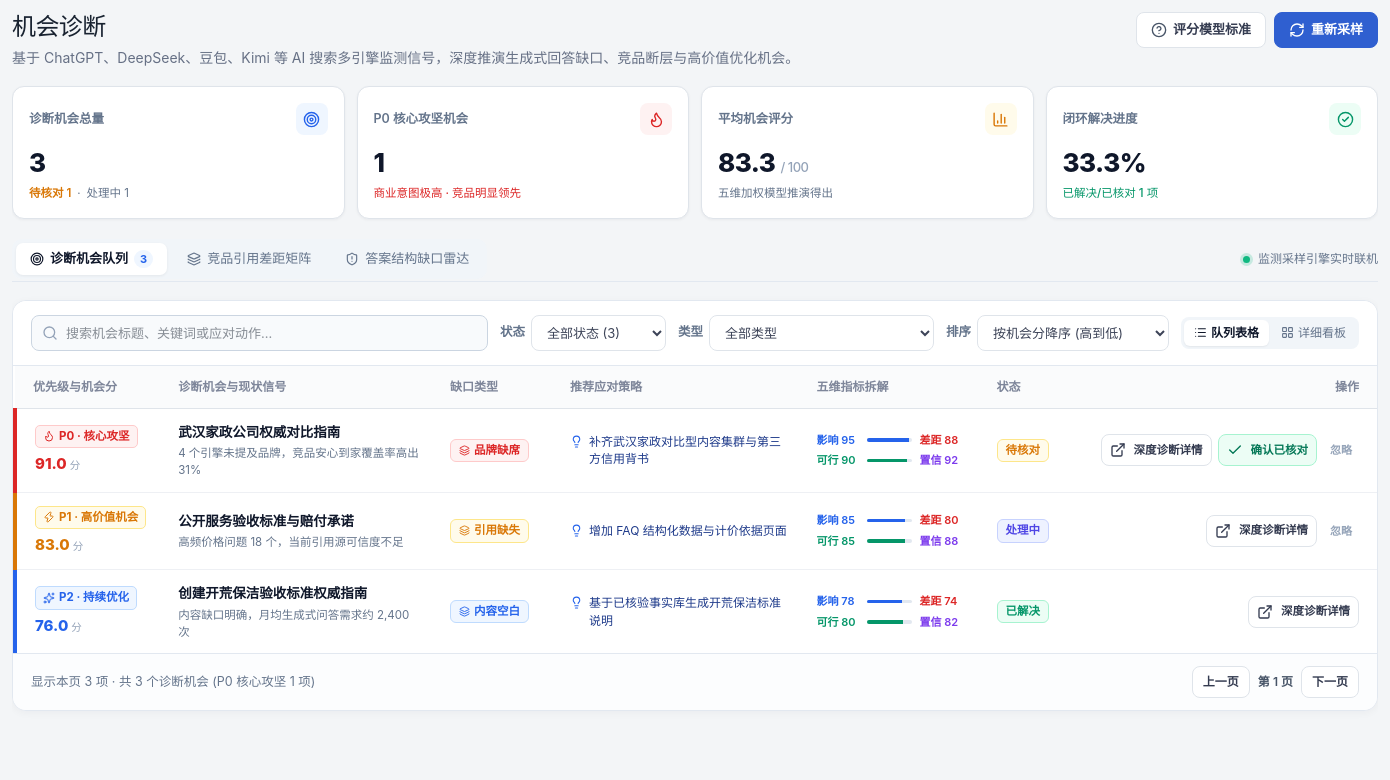
Test: DiagnosisView Component Redesign › filters opportunities by search query
The image size is (1390, 780).
Expected: the text "武汉家政公司权威对比指南" is shown, [178,424,340,440]
Step 1. Type "开荒保洁" into the field with placeholder "搜索机会标题、关键词或应对动作…" → (259, 333), box [31,315,488,351]
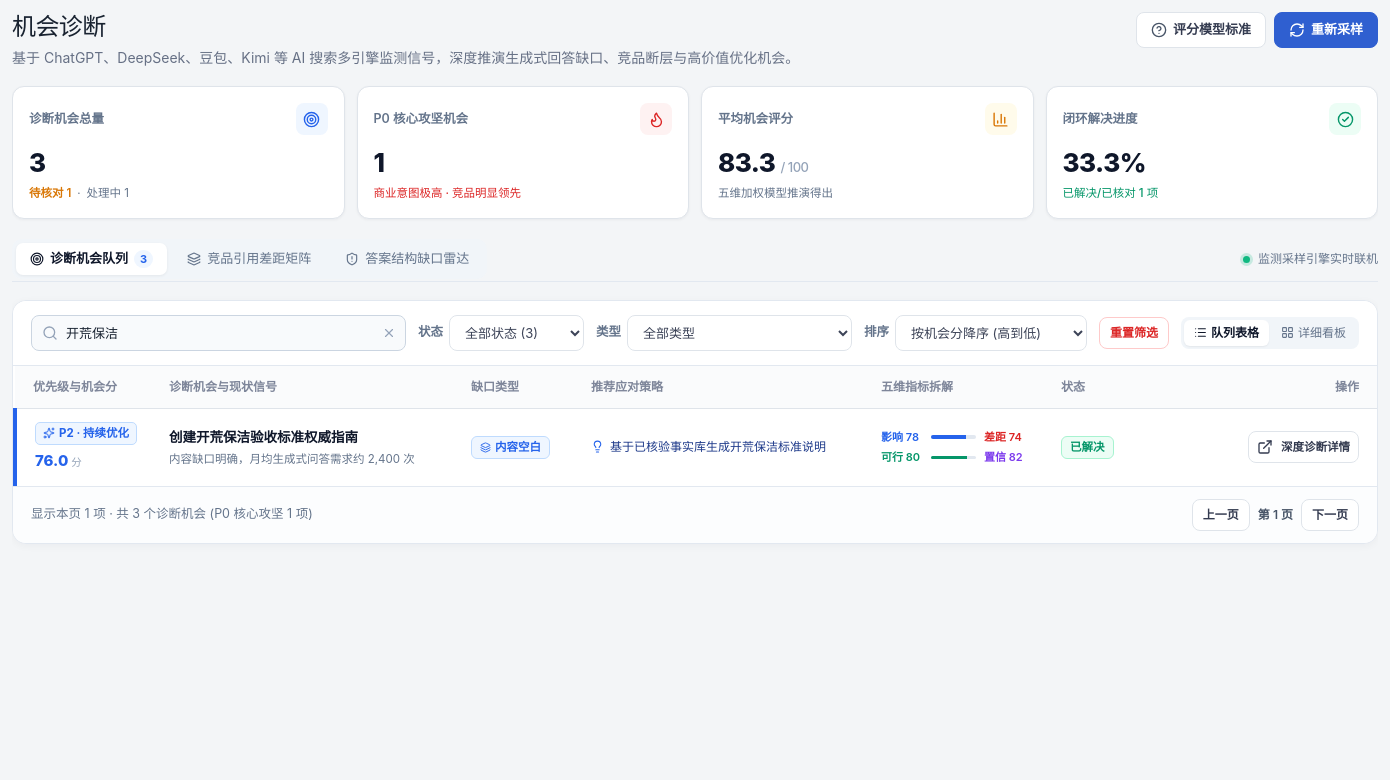
Expected: the text "创建开荒保洁验收标准权威指南" is shown, [169,429,358,445]
Result: the text "武汉家政公司权威对比指南" is gone
